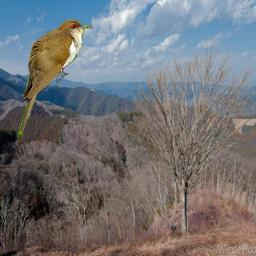Cuckoo: (18, 18, 92, 141)
